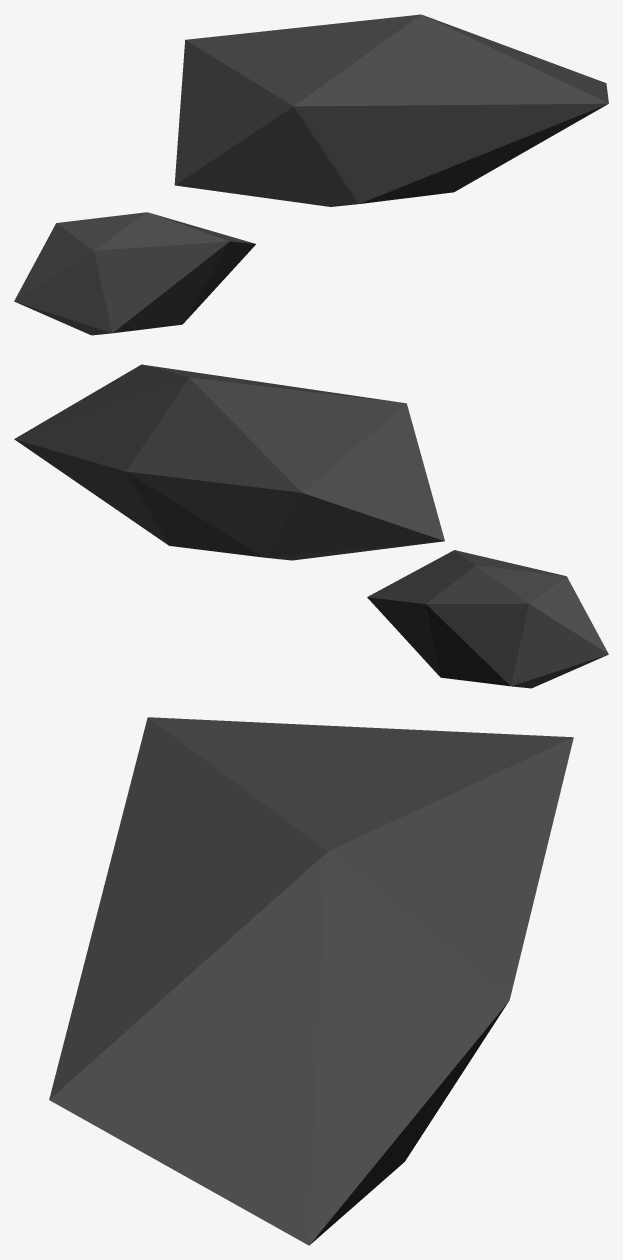
Rendered from Cloud1_Alt2.fbx.
3 renders of one model, top to bottom at view 1: azimuth 30°, elevation 25°; view 2: azimuth 150°, elevation 25°; view 3: azimuth 270°, elevation 25°, orthographic. The views are drawn at different scales.
Parts seen in each view (by area): view 1: Cloud1_Alt2; view 2: Cloud1_Alt2; view 3: Cloud1_Alt2.
Part boxes in pixels (x1,y1,x2,y2): Cloud1_Alt2: (14, 14, 608, 335); Cloud1_Alt2: (14, 364, 608, 688); Cloud1_Alt2: (49, 717, 573, 1245).
Size of the model in its own units: 2.67 by 1.01 by 1.02.
